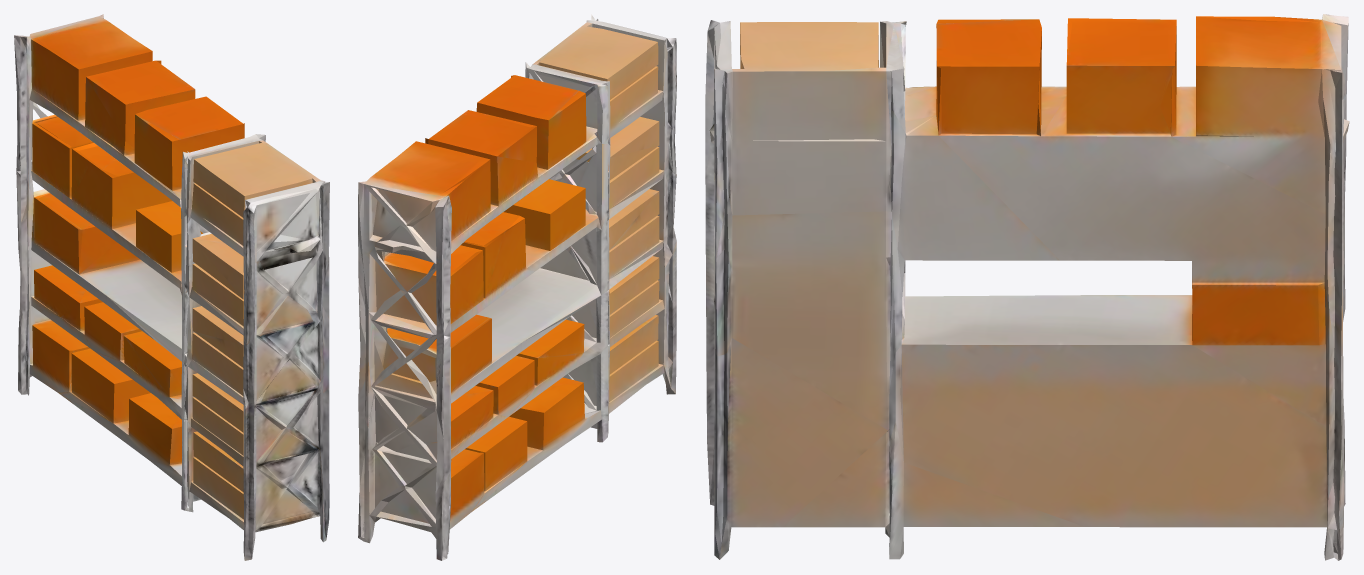
The model's file is shelfRack.glb.
The picture shows the model from 3 angles, left to right: view 1: azimuth 30°, elevation 25°; view 2: azimuth 150°, elevation 25°; view 3: azimuth 270°, elevation 25°; orthographic projection. The views are drawn at different scales.
Parts seen in each view (by area): view 1: model; view 2: model; view 3: model.
Boxes of the visible parts, x1,y1,x2,y2 form: model: (14,14,329,560); model: (358,14,676,560); model: (705,14,1349,560).
Bounding box in the file's own units: 0.4124 × 1.61 × 1.9.
1 material, 1 textured.
